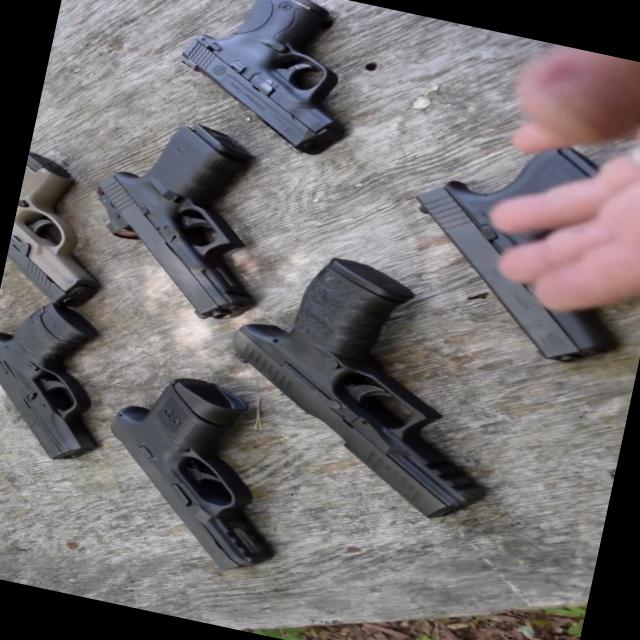handgun: (208, 232, 524, 535), (371, 102, 639, 412), (62, 78, 276, 336), (79, 348, 288, 560), (154, 0, 381, 194), (0, 284, 145, 473), (0, 149, 117, 313)
